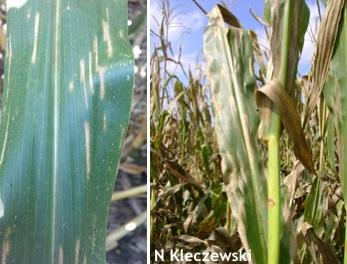Corn leaf blight: (1, 1, 133, 263), (203, 8, 270, 264), (304, 1, 346, 142), (255, 78, 317, 167)
